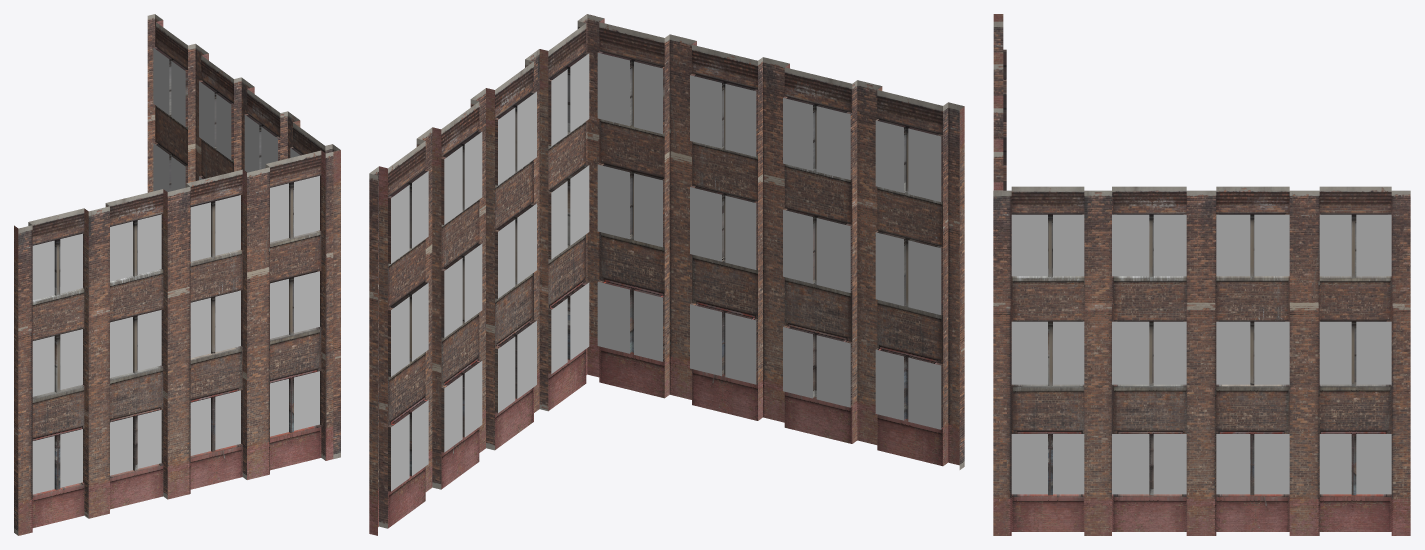
Rendered from house.fbx.
3 views of the same model, side by side, from view 1: azimuth 30°, elevation 25°; view 2: azimuth 150°, elevation 25°; view 3: azimuth 270°, elevation 25° (orthographic). The views are drawn at different scales.
Parts seen in each view (by area): view 1: TexturesCom_BuildingsIndustrial0097_2_M.001; view 2: TexturesCom_BuildingsIndustrial0097_2_M.001; view 3: TexturesCom_BuildingsIndustrial0097_2_M.001.
Part boxes in pixels (<box>): TexturesCom_BuildingsIndustrial0097_2_M.001: <box>14,14,340,535</box>; TexturesCom_BuildingsIndustrial0097_2_M.001: <box>369,14,964,535</box>; TexturesCom_BuildingsIndustrial0097_2_M.001: <box>993,14,1410,535</box>.
Size of the model in its own units: 811 by 740 by 810.
